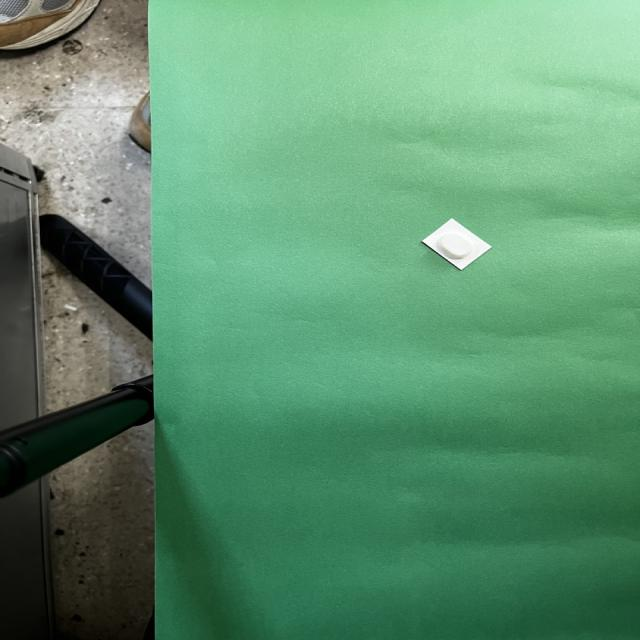Other Objects: (421, 218, 491, 270)
